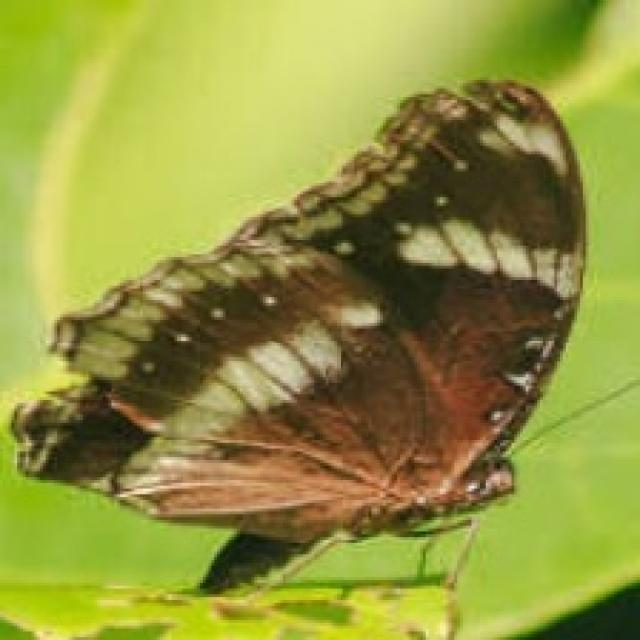butterfly: (9, 72, 637, 637)
